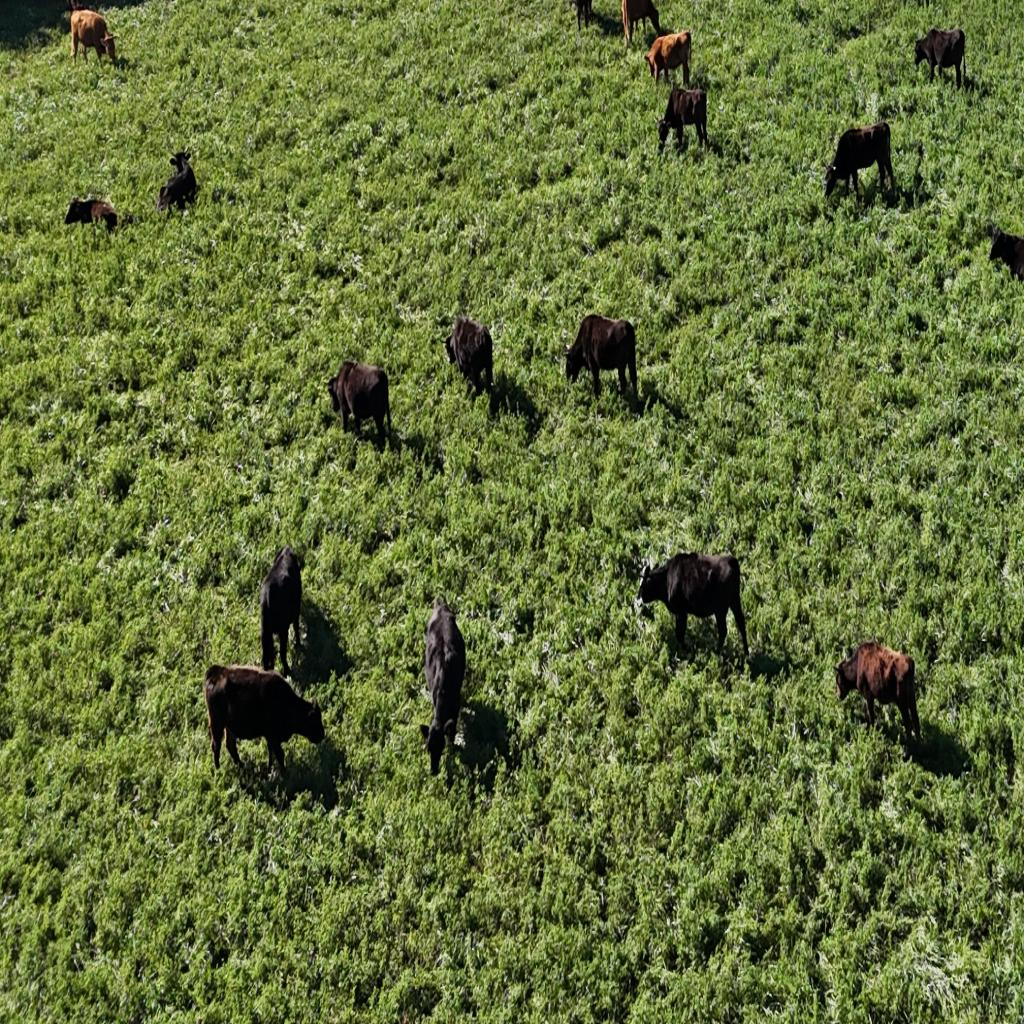cow: (204, 662, 325, 782), (640, 551, 749, 664), (834, 641, 922, 755), (417, 598, 468, 780), (822, 122, 895, 210), (566, 314, 638, 402), (258, 546, 304, 679), (326, 358, 390, 442), (443, 315, 495, 398), (656, 83, 708, 154), (914, 26, 966, 88), (68, 6, 116, 66), (646, 30, 692, 89), (154, 149, 195, 215), (986, 226, 1022, 287), (64, 196, 122, 232), (621, 0, 661, 46)
